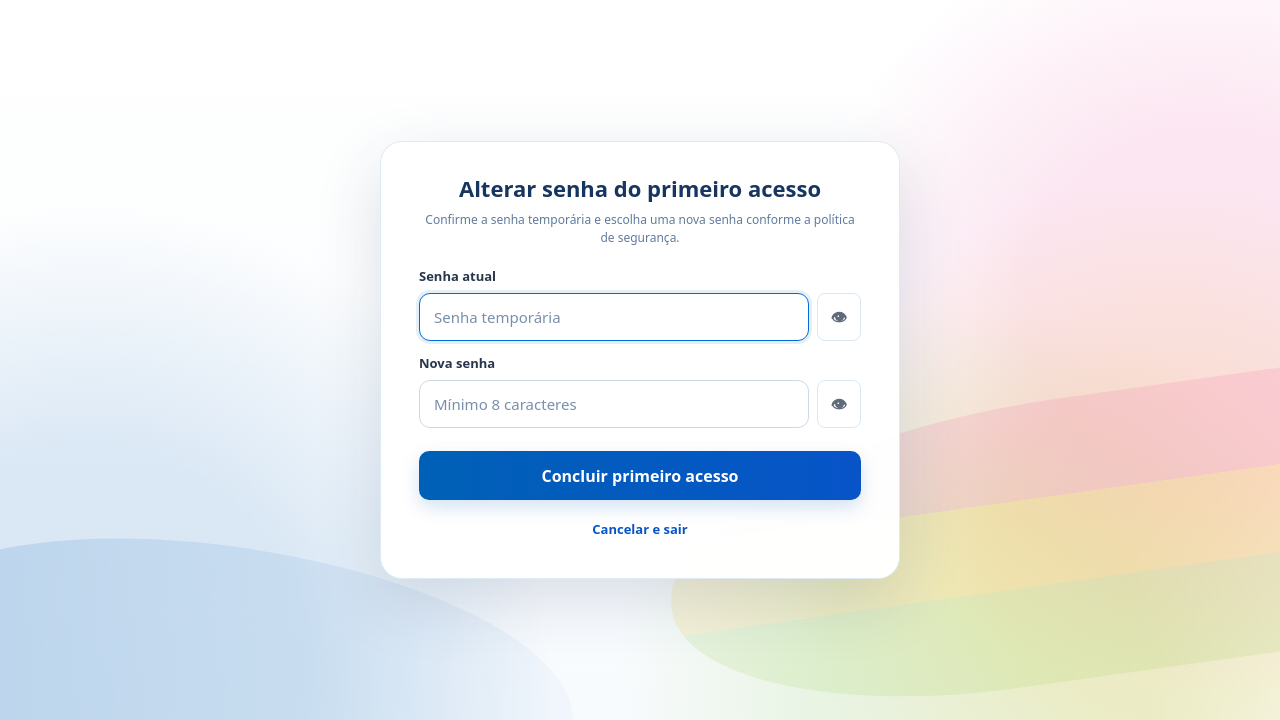
Test: entrada única CAPO › informa senha atual incorreta no primeiro acesso
Expected: the heading "Alterar senha do primeiro acesso" is shown, [459,173,821,203]
Type "111111" into the password field labelled "Senha atual" at {"x": 614, "y": 317}, box [419,292,809,341]
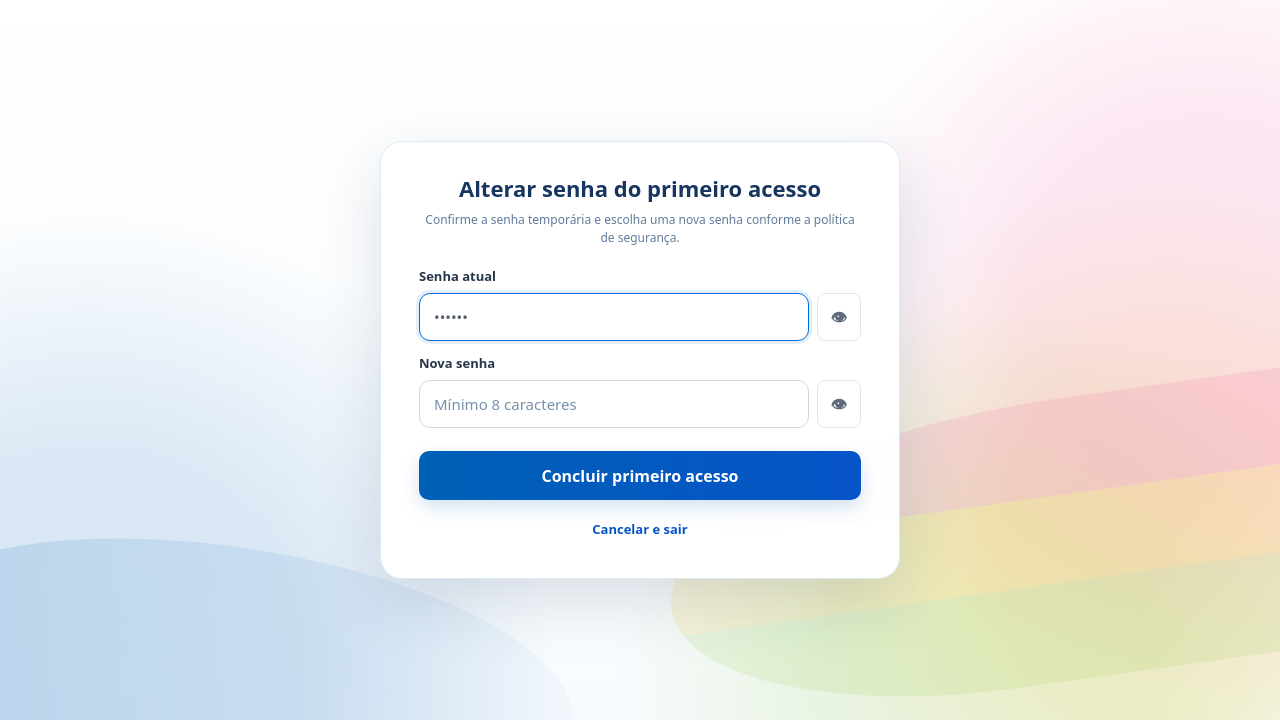
Type "Capo2026" into the password field labelled "Nova senha" at {"x": 614, "y": 404}, box [419,380,809,428]
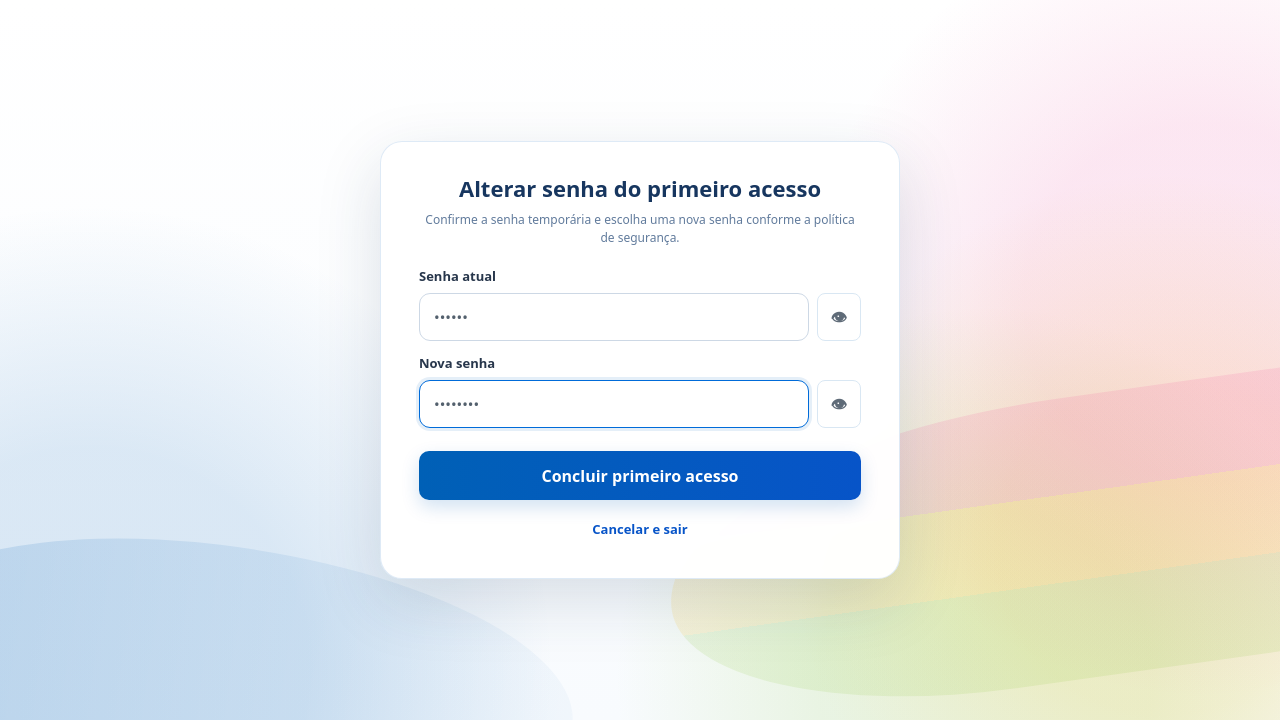
Click the button "Concluir primeiro acesso" at {"x": 640, "y": 476}, box [419,451,861,500]
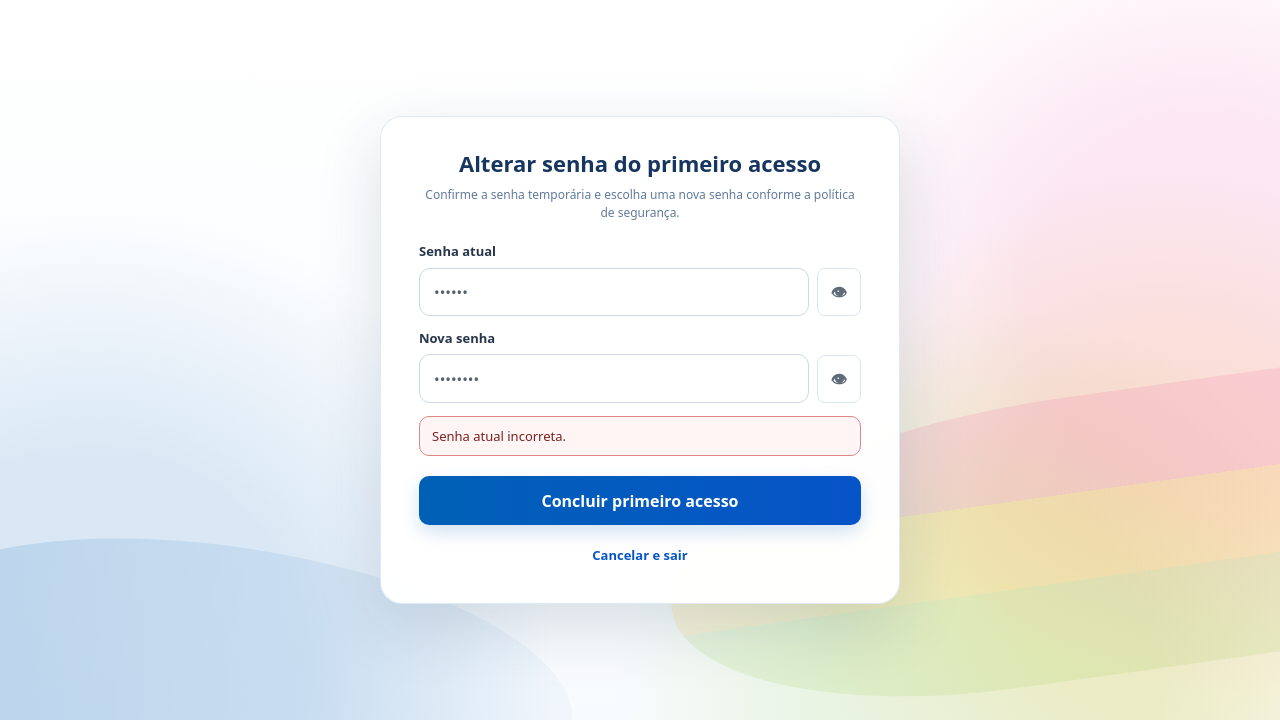
Expected: the message reads "Senha atual incorreta.", [432,427,566,445]
